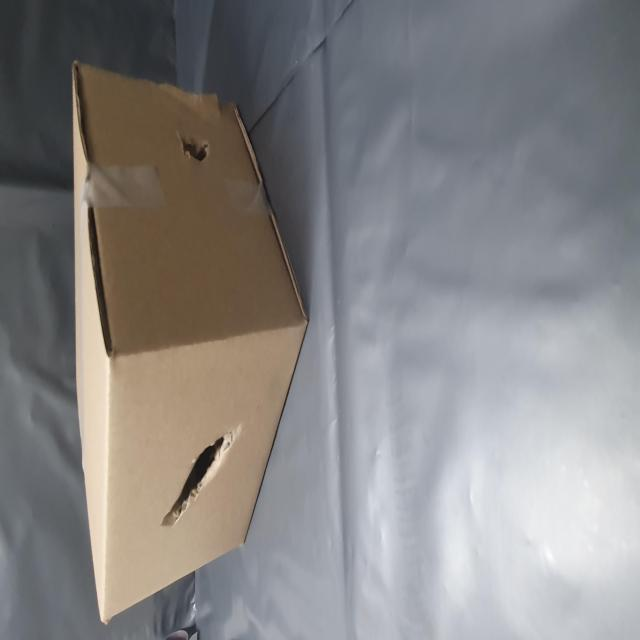damaged: (55, 276, 123, 426), (265, 316, 291, 379)
